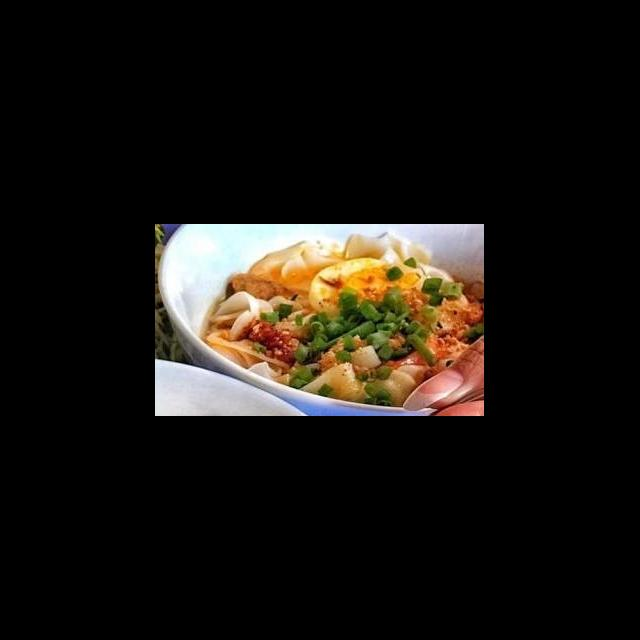mi: (200, 290, 318, 390), (294, 342, 432, 410), (342, 228, 456, 285), (246, 236, 344, 294)
trung: (306, 256, 424, 322)
